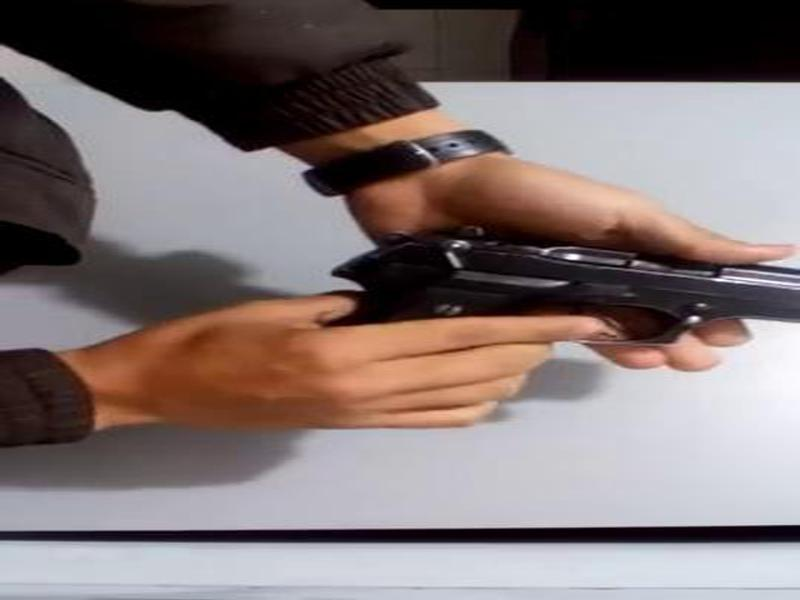Pistola: (317, 211, 800, 421)
